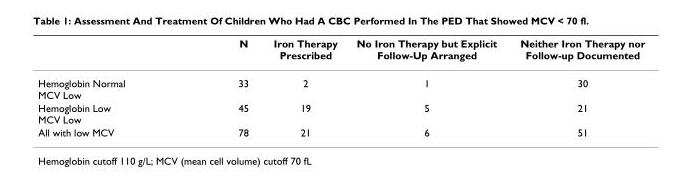table: (37, 36, 644, 137)
table column: (346, 36, 507, 137), (37, 36, 181, 137), (507, 36, 644, 137), (260, 36, 346, 137), (181, 36, 260, 137)
table column header: (37, 36, 644, 68)
table row: (37, 36, 644, 68), (37, 68, 644, 100), (37, 100, 644, 125), (37, 125, 644, 137)
